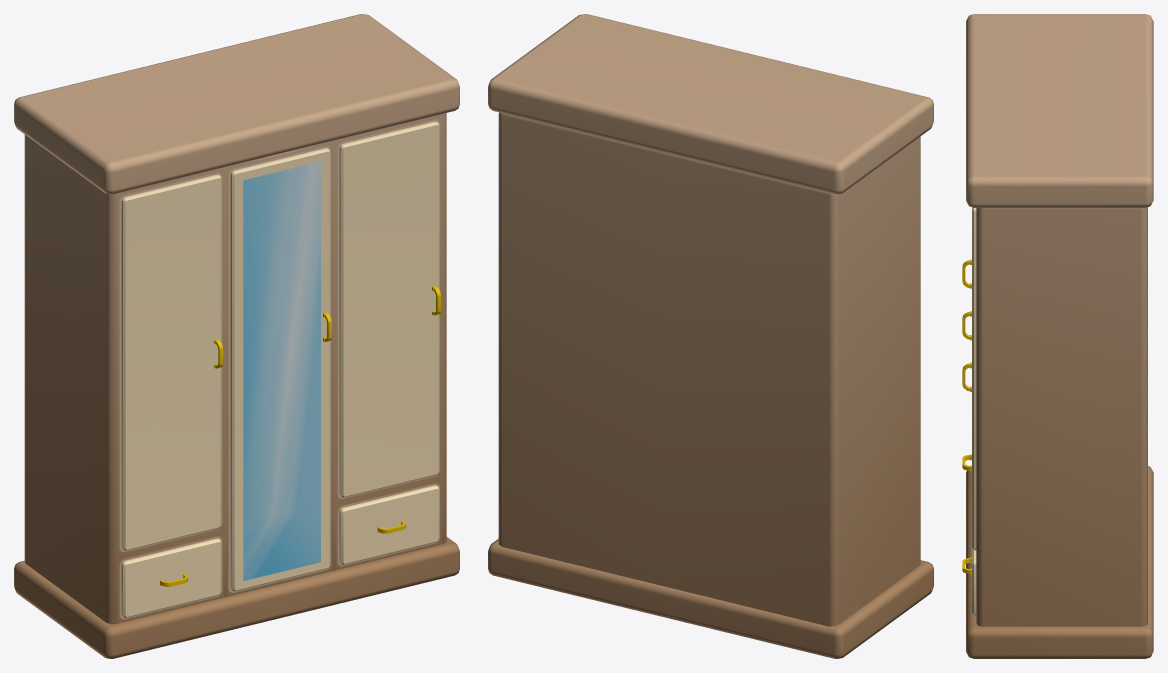
File: Wardrobe_62.glb
3 views of the same model, side by side, from view 1: azimuth 30°, elevation 25°; view 2: azimuth 150°, elevation 25°; view 3: azimuth 270°, elevation 25° (orthographic). The views are drawn at different scales.
Visible parts, largest first — view 1: Wardrobe_62, Wardrobe_62 Door_2, Wardrobe_62 Door_1, Wardrobe_62 Door_3, Wardrobe_62 Door_4, Wardrobe_62 Door_5; view 2: Wardrobe_62; view 3: Wardrobe_62, Wardrobe_62 Door_3, Wardrobe_62 Door_5.
Part boxes in pixels (x1,y1,x2,y2): Wardrobe_62: (14,14,459,658); Wardrobe_62 Door_2: (230,148,331,591); Wardrobe_62 Door_1: (121,174,223,550); Wardrobe_62 Door_3: (339,121,440,497); Wardrobe_62 Door_4: (121,538,221,617); Wardrobe_62 Door_5: (339,485,439,564); Wardrobe_62: (488,14,933,658); Wardrobe_62: (966,14,1153,658); Wardrobe_62 Door_3: (962,207,976,550); Wardrobe_62 Door_5: (962,548,976,615).
Bounding box in the file's own units: 1.66 × 2.21 × 0.7947.
Materials: 1 (1 with a texture image).
